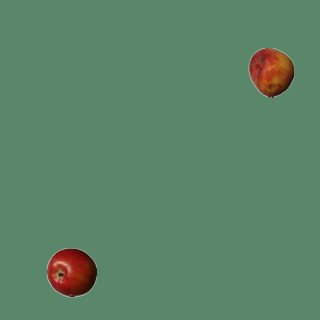Apple Braeburn: (46, 247, 96, 297)
Peach: (246, 47, 296, 97)
